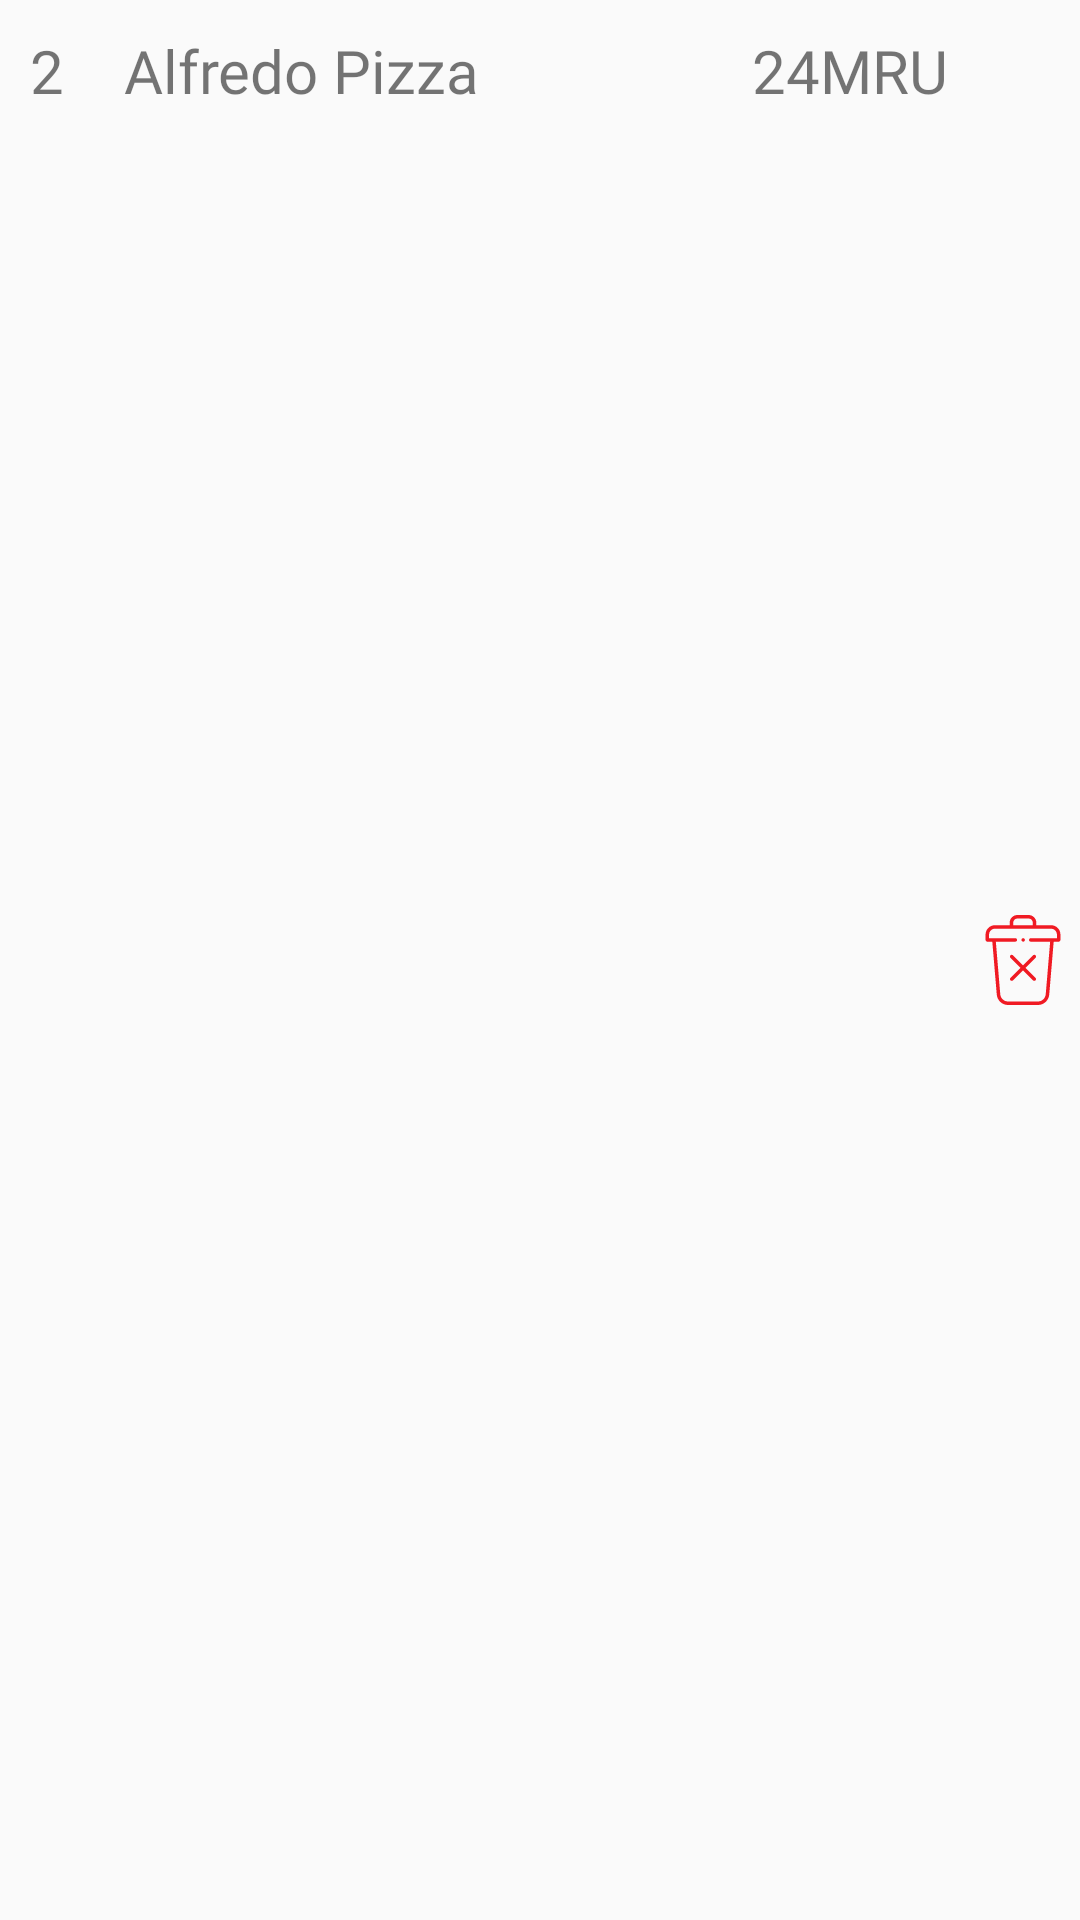

Named icons in this screenshot (1080 x 1920) and their bounding boxes, (left=x1, top=y1, right=x2, bottom=y2):
delete: (left=985, top=915, right=1061, bottom=1005)
